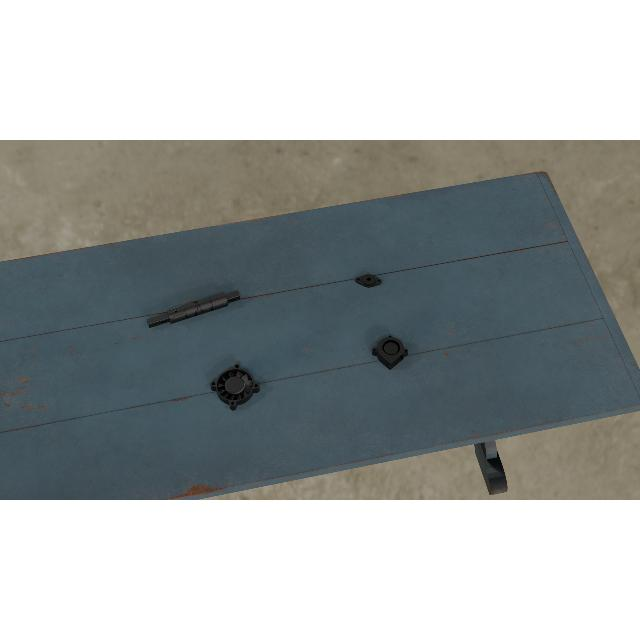Pieza1: (146, 286, 242, 332)
Pieza2: (354, 272, 382, 288)
Pieza3: (370, 332, 410, 371)
Pieza4: (208, 362, 262, 412)
